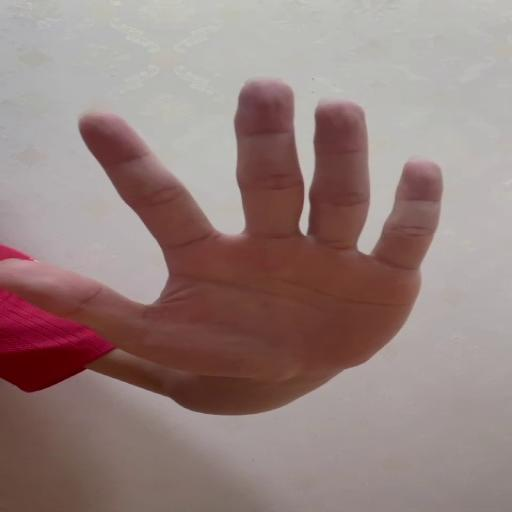open_palm: (0, 75, 445, 378)
